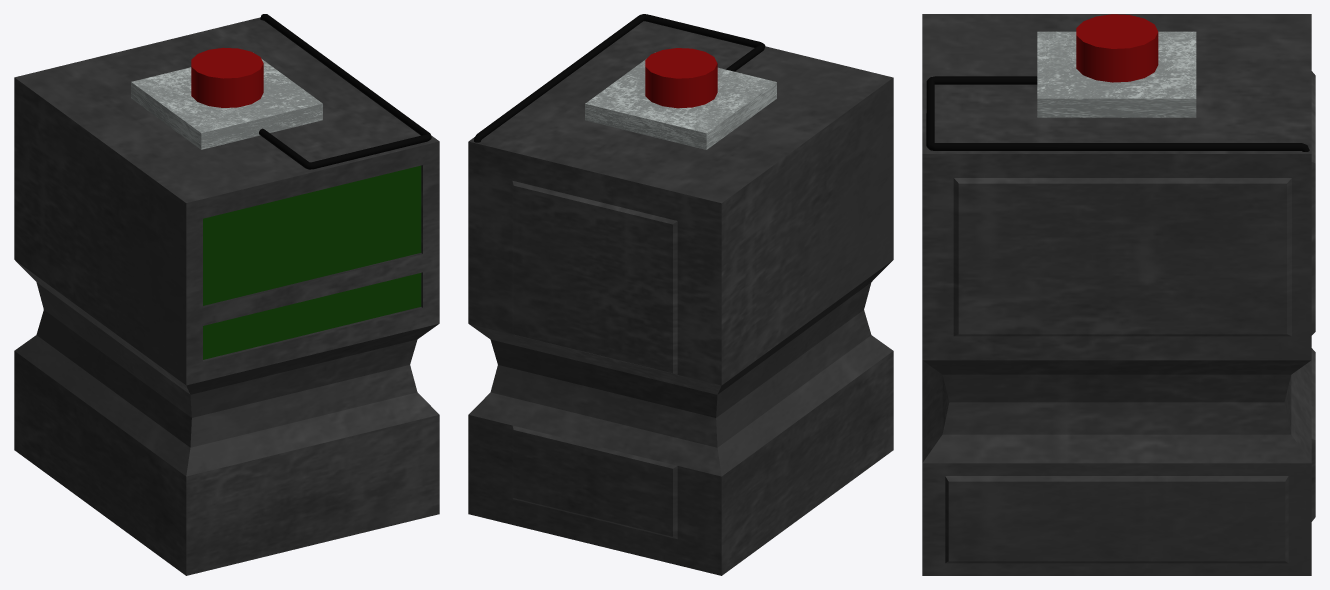
File: botton_Final.fbx
The picture shows the model from 3 angles, left to right: view 1: azimuth 30°, elevation 25°; view 2: azimuth 150°, elevation 25°; view 3: azimuth 270°, elevation 25°; orthographic projection. The views are drawn at different scales.
Visible parts, largest first — view 1: Cylinder.001; view 2: Cylinder.001; view 3: Cylinder.001.
Boxes of the visible parts, box(x1,y1,x2,y2) form: Cylinder.001: box(14, 14, 439, 575); Cylinder.001: box(468, 14, 893, 575); Cylinder.001: box(922, 14, 1315, 575).
Size of the model in its own units: 81 by 126 by 95.
